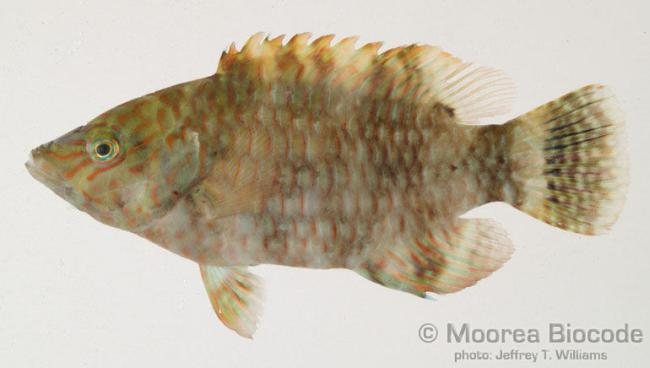fish: (26, 31, 631, 341)
